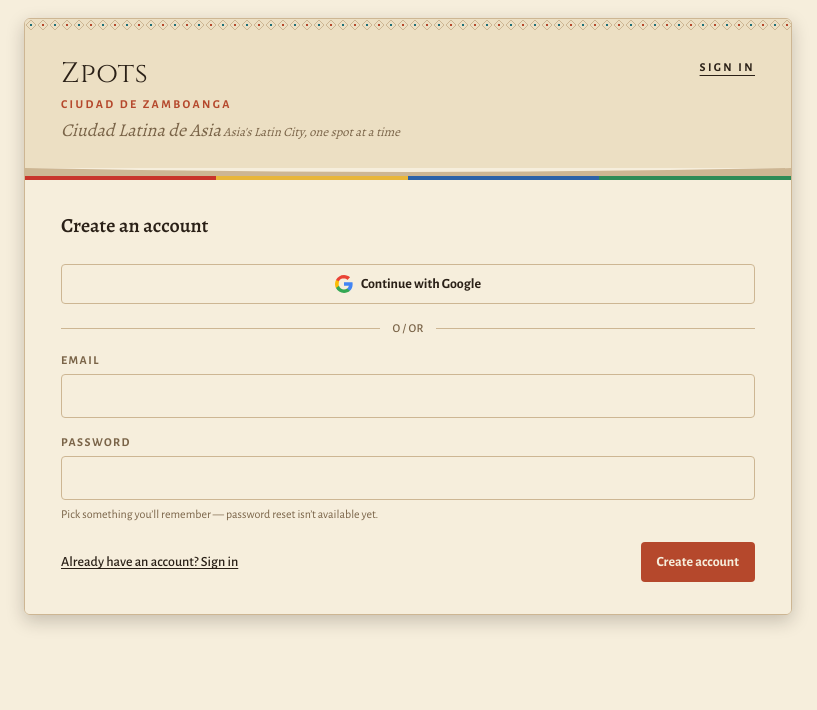
Test: Login page -- sign-up › user_already_exists / email_exists renders the sign-in toggle under the banner
Type "a@b.com" into the field labelled "Email".
click(408, 396); type("a@b.com")  # box [61, 374, 755, 418]
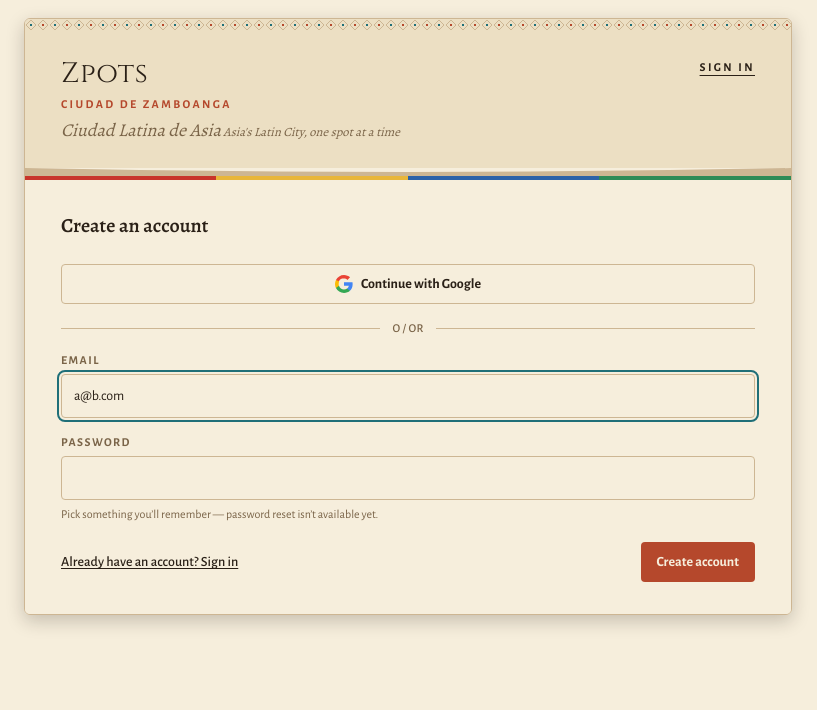
Type "password1" into the password field labelled "Password".
click(408, 478); type("password1")  # box [61, 456, 755, 500]
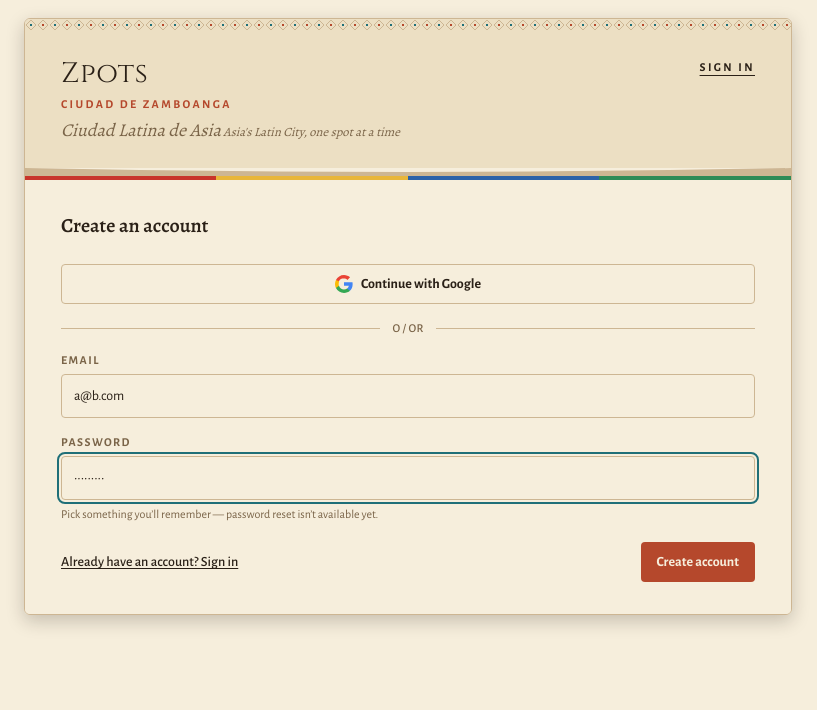
Click the button "Create account".
click(698, 562)  # box [641, 542, 755, 582]
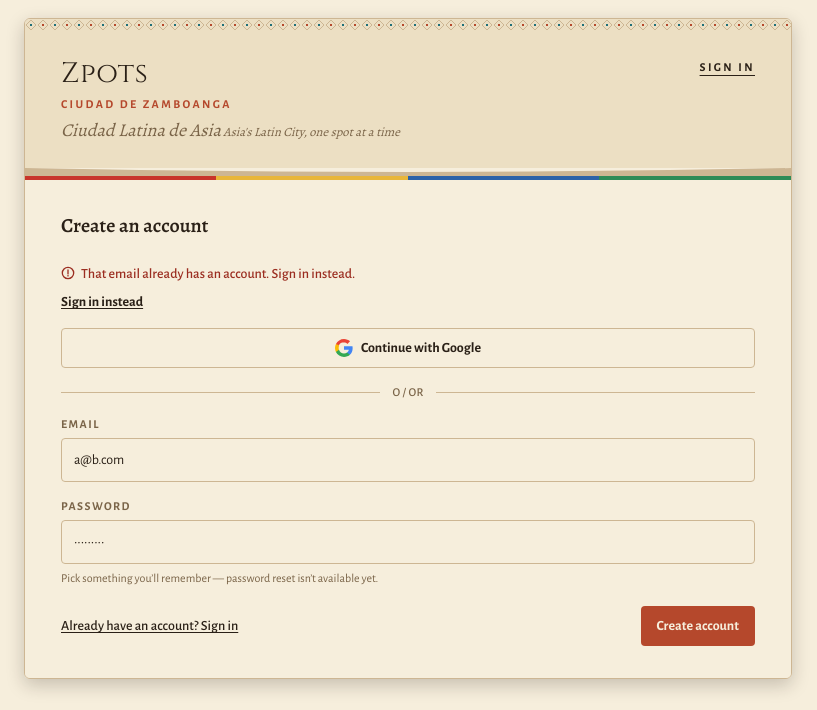
Expected: the link "Sign in" is shown, [700, 59, 755, 75]
Expected: the text "That email already has an account. Sign in instead." is shown, [81, 264, 355, 284]
